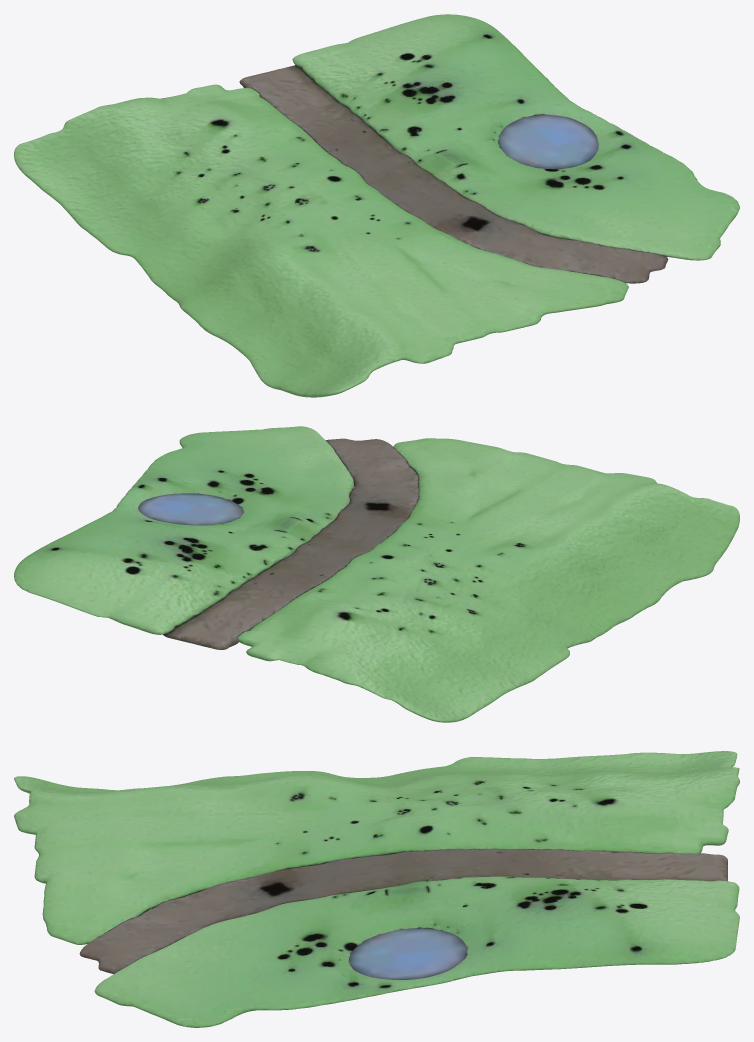
The model's file is env.glb.
3 renders of one model, top to bottom at view 1: azimuth 30°, elevation 25°; view 2: azimuth 150°, elevation 25°; view 3: azimuth 270°, elevation 25°, orthographic. The views are drawn at different scales.
Parts seen in each view (by area): view 1: Mball.026, street, darya; view 2: Mball.026, street, darya; view 3: Mball.026, street, darya.
Part boxes in pixels (x1,y1,x2,y2): Mball.026: (14,14,739,397); street: (239,65,668,283); darya: (499,115,598,169); Mball.026: (14,426,739,722); street: (163,438,419,649); darya: (138,493,243,525); Mball.026: (14,751,739,1027); street: (79,849,727,974); darya: (349,928,467,979).
Size of the model in its own units: 170 by 26.36 by 183.
Materials: 3 (3 with a texture image).
